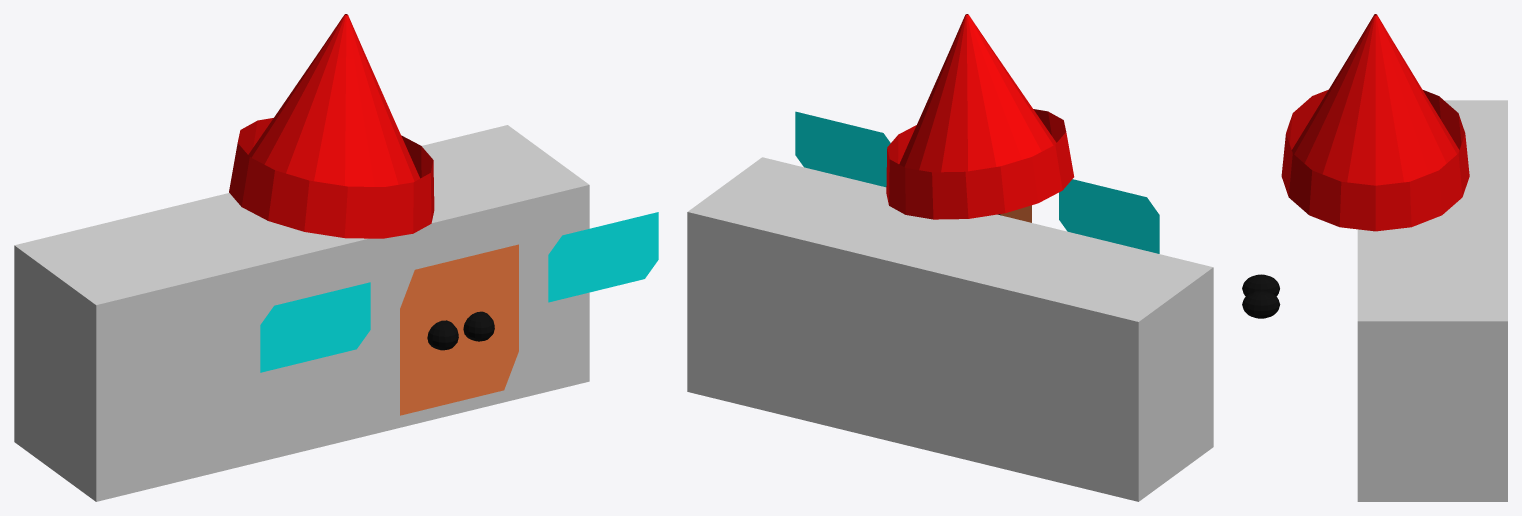
File: loge1FBX.fbx
The picture shows the model from 3 angles, left to right: view 1: azimuth 30°, elevation 25°; view 2: azimuth 150°, elevation 25°; view 3: azimuth 270°, elevation 25°; orthographic projection. The views are drawn at different scales.
Visible parts, largest first — view 1: ポリゴンメッシュ, 開いた線形状の回転体, 閉じた線形状の掃引体_ncl1_6, 閉じた線形状の掃引体, 閉じた線形状の掃引体_ncl1_8, 閉じた線形状の掃引体_ncl1_7, 閉じた線形状の掃引体_ncl1_4, 閉じた線形状の掃引体_ncl1_5, 閉じた線形状の掃引体_ncl1_2, 閉じた線形状の掃引体_ncl1_1, 閉じた線形状の掃引体_ncl1_3, 球_ncl1_1 (+1 smaller); view 2: ポリゴンメッシュ, 開いた線形状の回転体, 閉じた線形状の掃引体_ncl1_3, 閉じた線形状の掃引体, 閉じた線形状の掃引体_ncl1_4, 閉じた線形状の掃引体_ncl1_1, 閉じた線形状の掃引体_ncl1_5, 閉じた線形状の掃引体_ncl1_2; view 3: ポリゴンメッシュ, 開いた線形状の回転体, 球, 球_ncl1_1.
Boxes of the visible parts, x1=… form: ポリゴンメッシュ: x1=14, y1=125, x2=589, y2=501; 開いた線形状の回転体: x1=229, y1=14, x2=434, y2=238; 閉じた線形状の掃引体_ncl1_6: x1=415, y1=244, x2=518, y2=376; 閉じた線形状の掃引体: x1=274, y1=282, x2=370, y2=353; 閉じた線形状の掃引体_ncl1_8: x1=400, y1=245, x2=518, y2=415; 閉じた線形状の掃引体_ncl1_7: x1=400, y1=307, x2=504, y2=415; 閉じた線形状の掃引体_ncl1_4: x1=548, y1=231, x2=644, y2=302; 閉じた線形状の掃引体_ncl1_5: x1=548, y1=212, x2=658, y2=302; 閉じた線形状の掃引体_ncl1_2: x1=260, y1=282, x2=370, y2=372; 閉じた線形状の掃引体_ncl1_1: x1=260, y1=307, x2=356, y2=372; 閉じた線形状の掃引体_ncl1_3: x1=562, y1=212, x2=658, y2=282; 球_ncl1_1: x1=427, y1=320, x2=458, y2=350; ポリゴンメッシュ: x1=687, y1=157, x2=1213, y2=501; 開いた線形状の回転体: x1=886, y1=14, x2=1074, y2=219; 閉じた線形状の掃引体_ncl1_3: x1=795, y1=111, x2=883, y2=176; 閉じた線形状の掃引体: x1=1059, y1=179, x2=1146, y2=233; 閉じた線形状の掃引体_ncl1_4: x1=808, y1=129, x2=886, y2=187; 閉じた線形状の掃引体_ncl1_1: x1=1072, y1=202, x2=1159, y2=253; 閉じた線形状の掃引体_ncl1_5: x1=795, y1=112, x2=890, y2=186; 閉じた線形状の掃引体_ncl1_2: x1=1059, y1=179, x2=1159, y2=249; ポリゴンメッシュ: x1=1357, y1=100, x2=1507, y2=501; 開いた線形状の回転体: x1=1281, y1=14, x2=1469, y2=231; 球: x1=1242, y1=290, x2=1280, y2=318; 球_ncl1_1: x1=1242, y1=274, x2=1279, y2=296.
Size of the model in its own units: 1416 by 1107 by 697.
